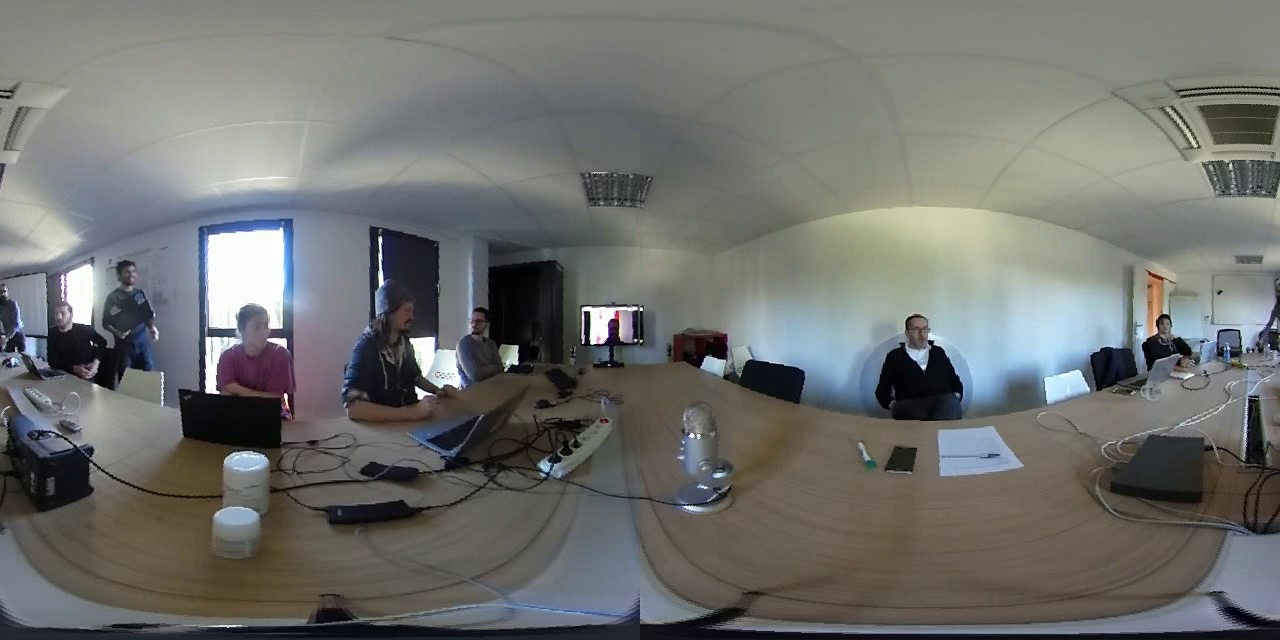person: (335, 276, 437, 433), (869, 309, 982, 415), (210, 297, 305, 391), (101, 245, 160, 362), (446, 292, 508, 388), (43, 291, 99, 388), (581, 306, 645, 350), (1146, 309, 1185, 365), (1, 282, 26, 363)
